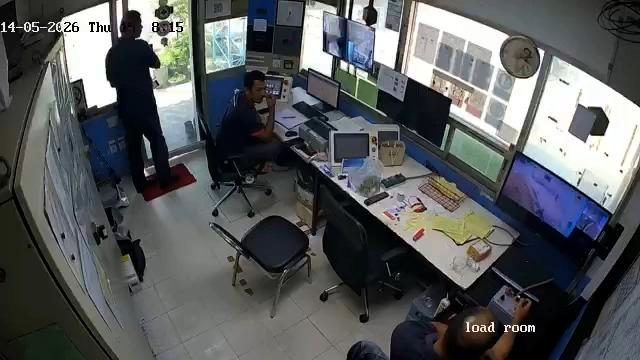Head: (441, 305, 501, 356), (242, 71, 269, 101), (119, 13, 144, 39)
People: (106, 11, 177, 186), (391, 298, 534, 360), (221, 69, 297, 168)
Phone: (257, 107, 269, 115)
